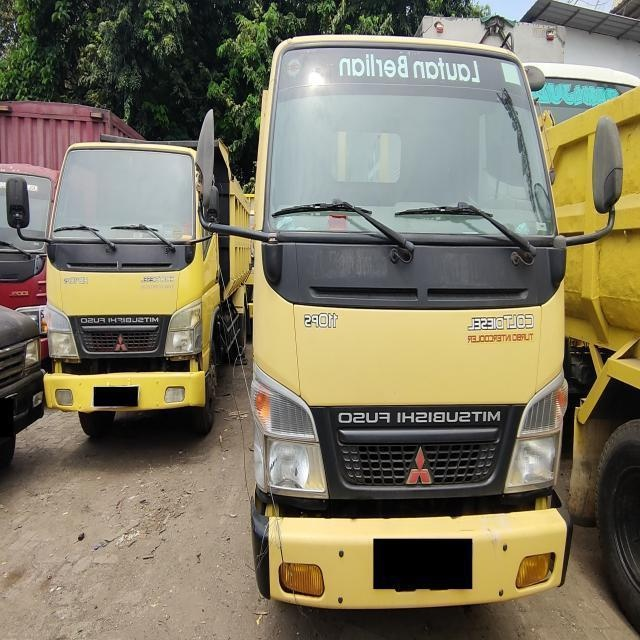truck: (185, 31, 627, 631), (0, 122, 260, 470)
